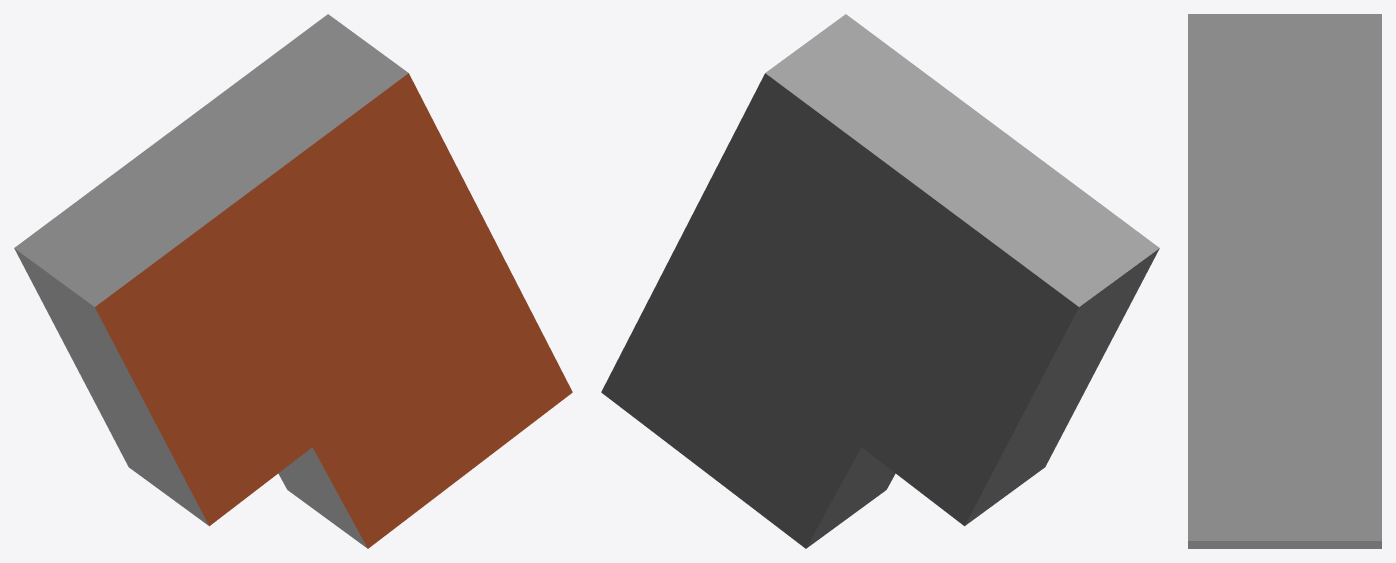
File: construction_6524_assumed_A_Casa_h6m.obj
The picture shows the model from 3 angles, left to right: view 1: azimuth 30°, elevation 25°; view 2: azimuth 150°, elevation 25°; view 3: azimuth 270°, elevation 25°; orthographic projection. The views are drawn at different scales.
Visible parts, largest first — view 1: construction_6524_assumed_A_Casa; view 2: construction_6524_assumed_A_Casa; view 3: construction_6524_assumed_A_Casa.
Boxes of the visible parts, x1,y1,x2,y2 form: construction_6524_assumed_A_Casa: (14,14,572,548); construction_6524_assumed_A_Casa: (601,14,1159,548); construction_6524_assumed_A_Casa: (1188,14,1381,548).
Size of the model in its own units: 20.51 by 19.1 by 6.
